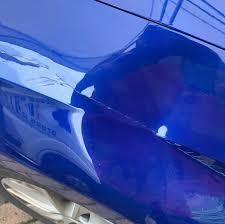dent: (53, 35, 224, 214)
